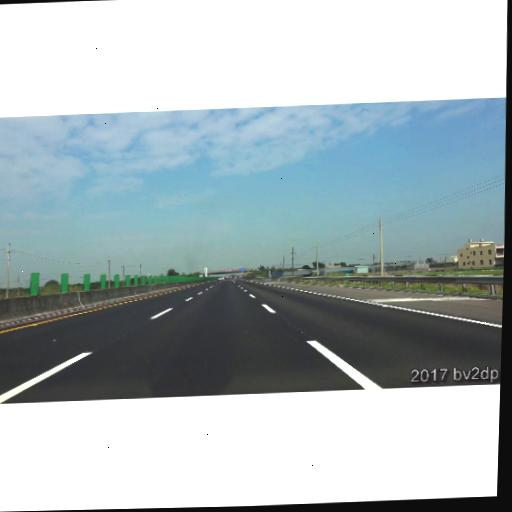Car: (218, 276, 222, 280), (235, 275, 238, 278)
